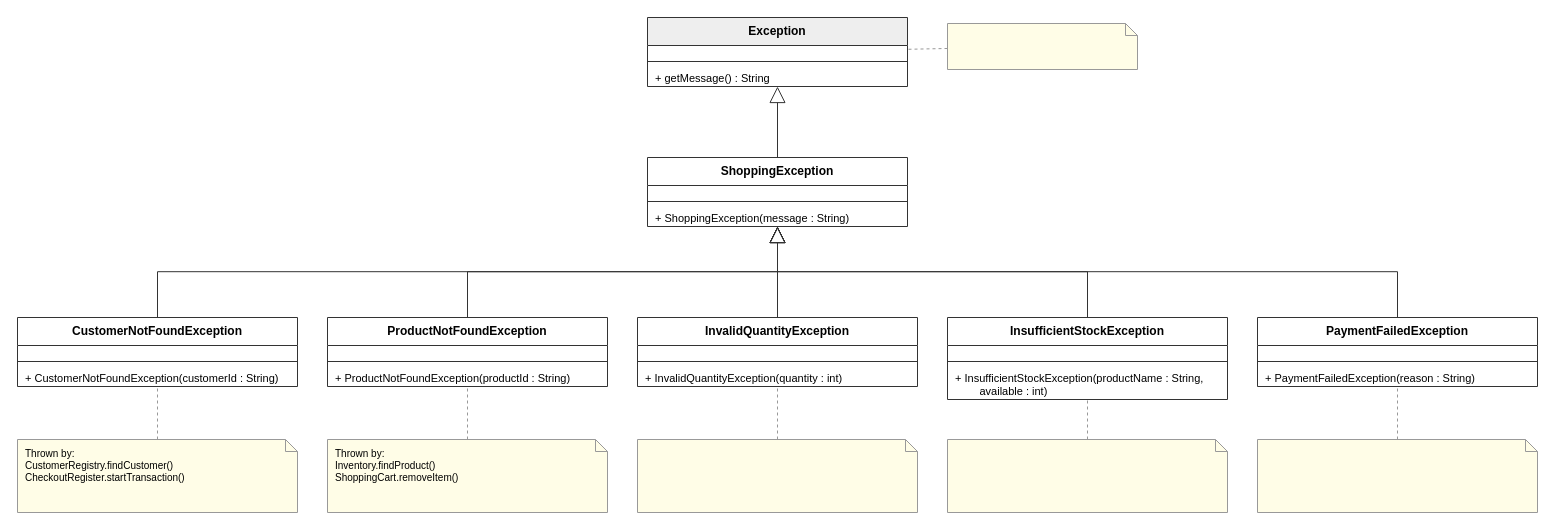
The diagram is 1555 pixels wide and 530 high, and some of its shapes have lost their labels. The shapes that lost their labels are listed below. From the top down, each one's centre as x and y in pixels, then its label:
At (x=1042, y=46): "Java library class (java.lang.Exception)".
At (x=777, y=475): "Thrown by: ShoppingCart.addItem()".
At (x=1087, y=475): "Thrown by: ShoppingCart.addItem() Product.reduceStock() Inventory.deductStock()".
At (x=1397, y=475): "Thrown by: CashPayment.pay() CardPayment.pay()".
